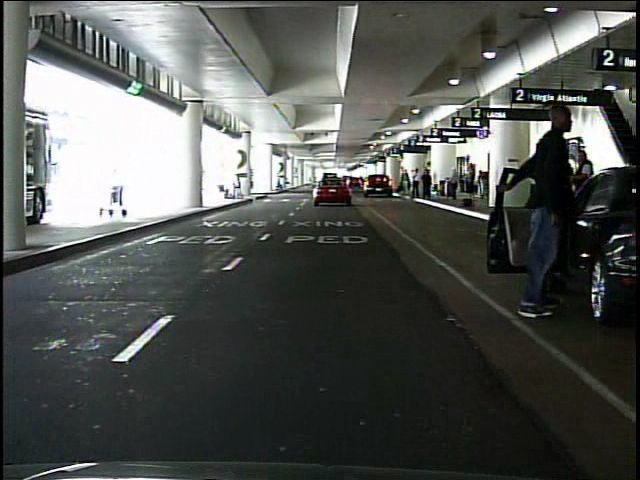person: (503, 103, 586, 321), (571, 146, 596, 261), (547, 143, 577, 237), (466, 162, 478, 206), (449, 167, 462, 201), (410, 166, 422, 200), (421, 168, 433, 201), (402, 169, 412, 197), (275, 172, 284, 189)
